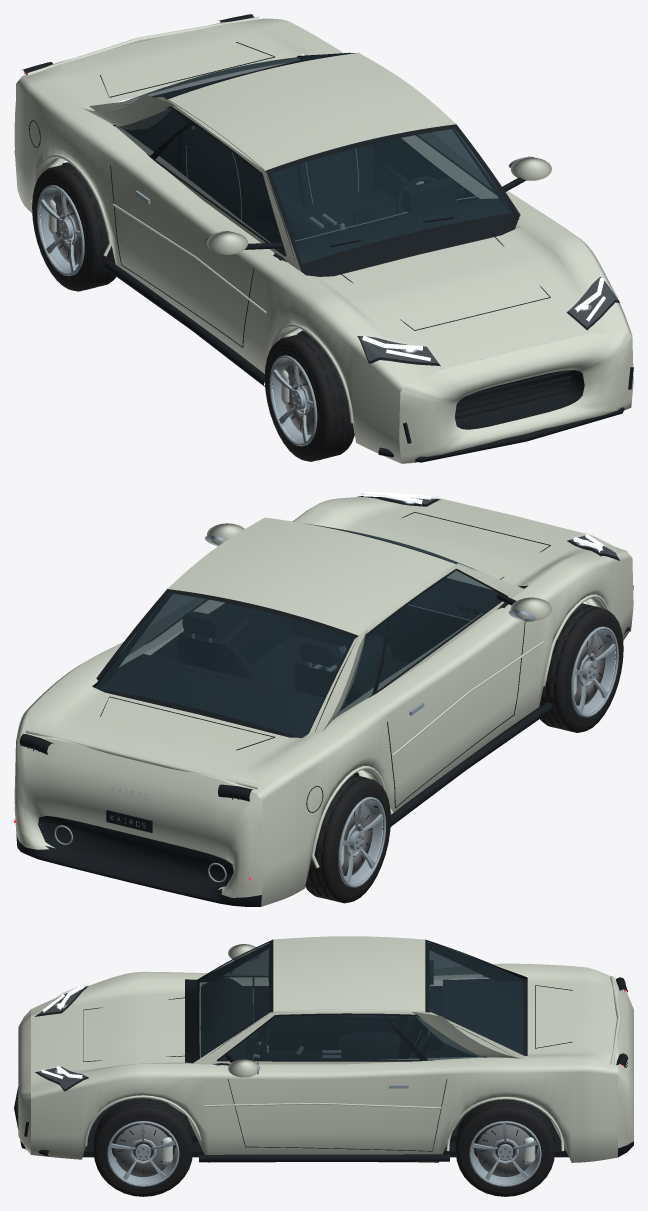
Rendered from aeris-lod0.glb.
3 views of the same model, one above another, from view 1: azimuth 30°, elevation 25°; view 2: azimuth 150°, elevation 25°; view 3: azimuth 270°, elevation 25° (orthographic). The views are drawn at different scales.
Visible parts, largest first — view 1: sculpted-coachwork_merged, carbon-rear-valance_merged, panoramic-windscreen_merged, profiled-tire_merged (×2), rim-barrel_merged (×2), headlamp-clear-lens_merged, wheel-valve-cap_merged (×2), headlamp-projector-optic_merged, door-release_merged; view 2: sculpted-coachwork_merged, carbon-rear-valance_merged, panoramic-windscreen_merged, profiled-tire_merged (×2), rim-barrel_merged (×2), wheel-valve-cap_merged (×2), door-release_merged, headlamp-projector-optic_merged; view 3: sculpted-coachwork_merged, carbon-rear-valance_merged, panoramic-windscreen_merged, profiled-tire_merged (×2), rim-barrel_merged (×2), wheel-valve-cap_merged (×2), headlamp-clear-lens_merged, headlamp-projector-optic_merged.
Boxes of the visible parts, bbox=[...] form: sculpted-coachwork_merged: bbox=[14, 16, 633, 463]; carbon-rear-valance_merged: bbox=[21, 14, 633, 462]; panoramic-windscreen_merged: bbox=[115, 53, 512, 263]; profiled-tire_merged (×2): bbox=[32, 163, 354, 461]; rim-barrel_merged (×2): bbox=[37, 185, 317, 446]; headlamp-clear-lens_merged: bbox=[358, 274, 619, 362]; wheel-valve-cap_merged (×2): bbox=[53, 193, 314, 434]; headlamp-projector-optic_merged: bbox=[362, 278, 605, 361]; door-release_merged: bbox=[67, 126, 591, 353]; sculpted-coachwork_merged: bbox=[14, 497, 633, 906]; carbon-rear-valance_merged: bbox=[16, 496, 633, 906]; panoramic-windscreen_merged: bbox=[95, 523, 499, 737]; profiled-tire_merged (×2): bbox=[305, 603, 623, 903]; rim-barrel_merged (×2): bbox=[338, 626, 618, 887]; wheel-valve-cap_merged (×2): bbox=[342, 634, 613, 876]; door-release_merged: bbox=[54, 497, 590, 882]; headlamp-projector-optic_merged: bbox=[363, 492, 604, 552]; sculpted-coachwork_merged: bbox=[18, 936, 633, 1162]; carbon-rear-valance_merged: bbox=[14, 939, 633, 1162]; panoramic-windscreen_merged: bbox=[199, 942, 523, 1060]; profiled-tire_merged (×2): bbox=[93, 1098, 555, 1196]; rim-barrel_merged (×2): bbox=[107, 1121, 541, 1186]; wheel-valve-cap_merged (×2): bbox=[114, 1124, 529, 1177]; headlamp-clear-lens_merged: bbox=[35, 984, 87, 1088]; headlamp-projector-optic_merged: bbox=[41, 984, 84, 1079].
Size of the model in its own units: 2.09 by 1.31 by 4.25.
